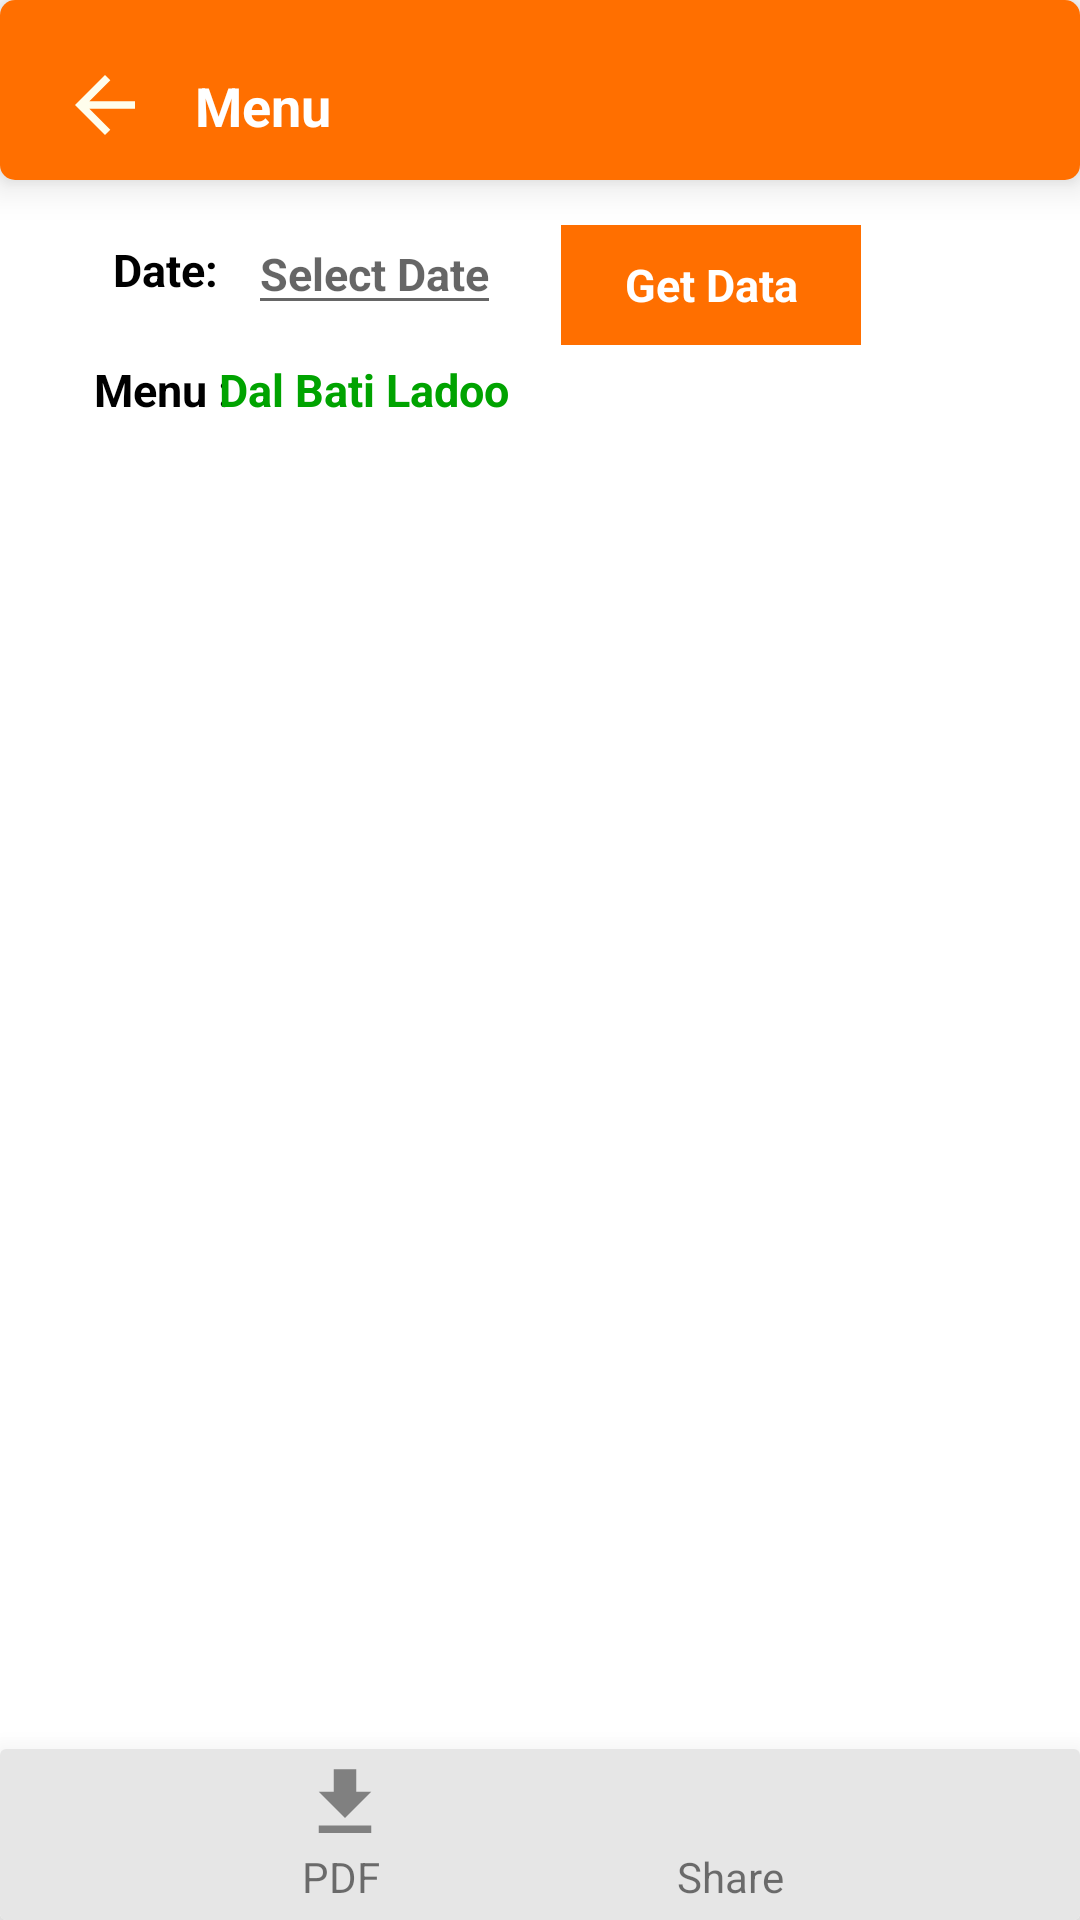

Icons on this 1080w x 1920h Android screen, each with its box as rect(x1, y1, x2, y2):
arrow back: rect(75, 75, 135, 135)
file download: rect(318, 1769, 372, 1833)
